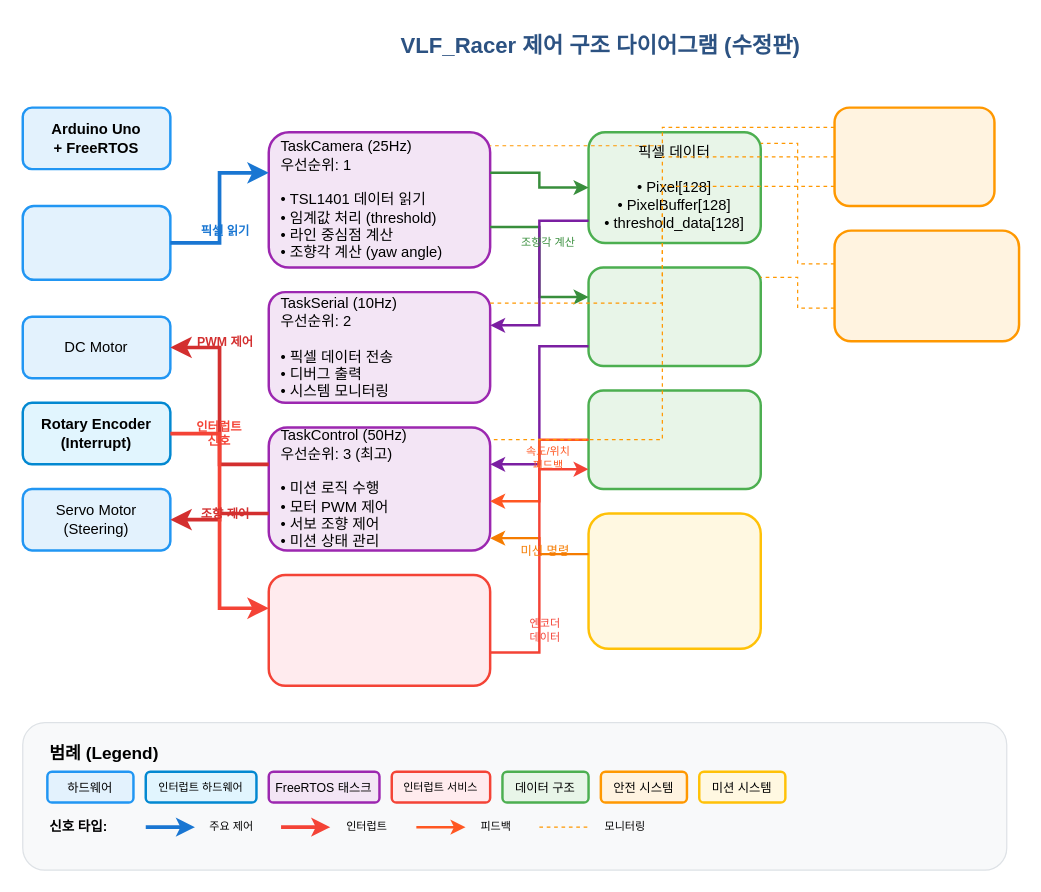
Image size: 1041x892. Some labels were removed from this diagram. The shapes that lost their labels are listed below. From the top down, each one's centre as x and y in pixels, then its label:
the point at 914,156: Watchdog Timer (2초 타임아웃) • 시스템 안정성 • 태스크 모니터링
the point at 96,242: TSL1401 Camera (128 pixels)
the point at 926,285: 세마포어 • xSerialSemaphore • xDataSemaphore • xSteeringSemaphore
the point at 674,316: 제어 변수 • vision_steer_angle • steering_angle • mission_flag
the point at 674,439: 엔코더 데이터 • encoderPos • 속도 정보 • 위치 정보
the point at 674,580: 미션 시스템 0: start_stop 1: lane_control ✓ 2: wall_following 3: turn90 4-6: 확장 미션
the point at 379,629: encoderB() 인터럽트 서비스 루틴 • 엔코더 펄스 카운트 • encoderPos 업데이트 • 실시간 처리
